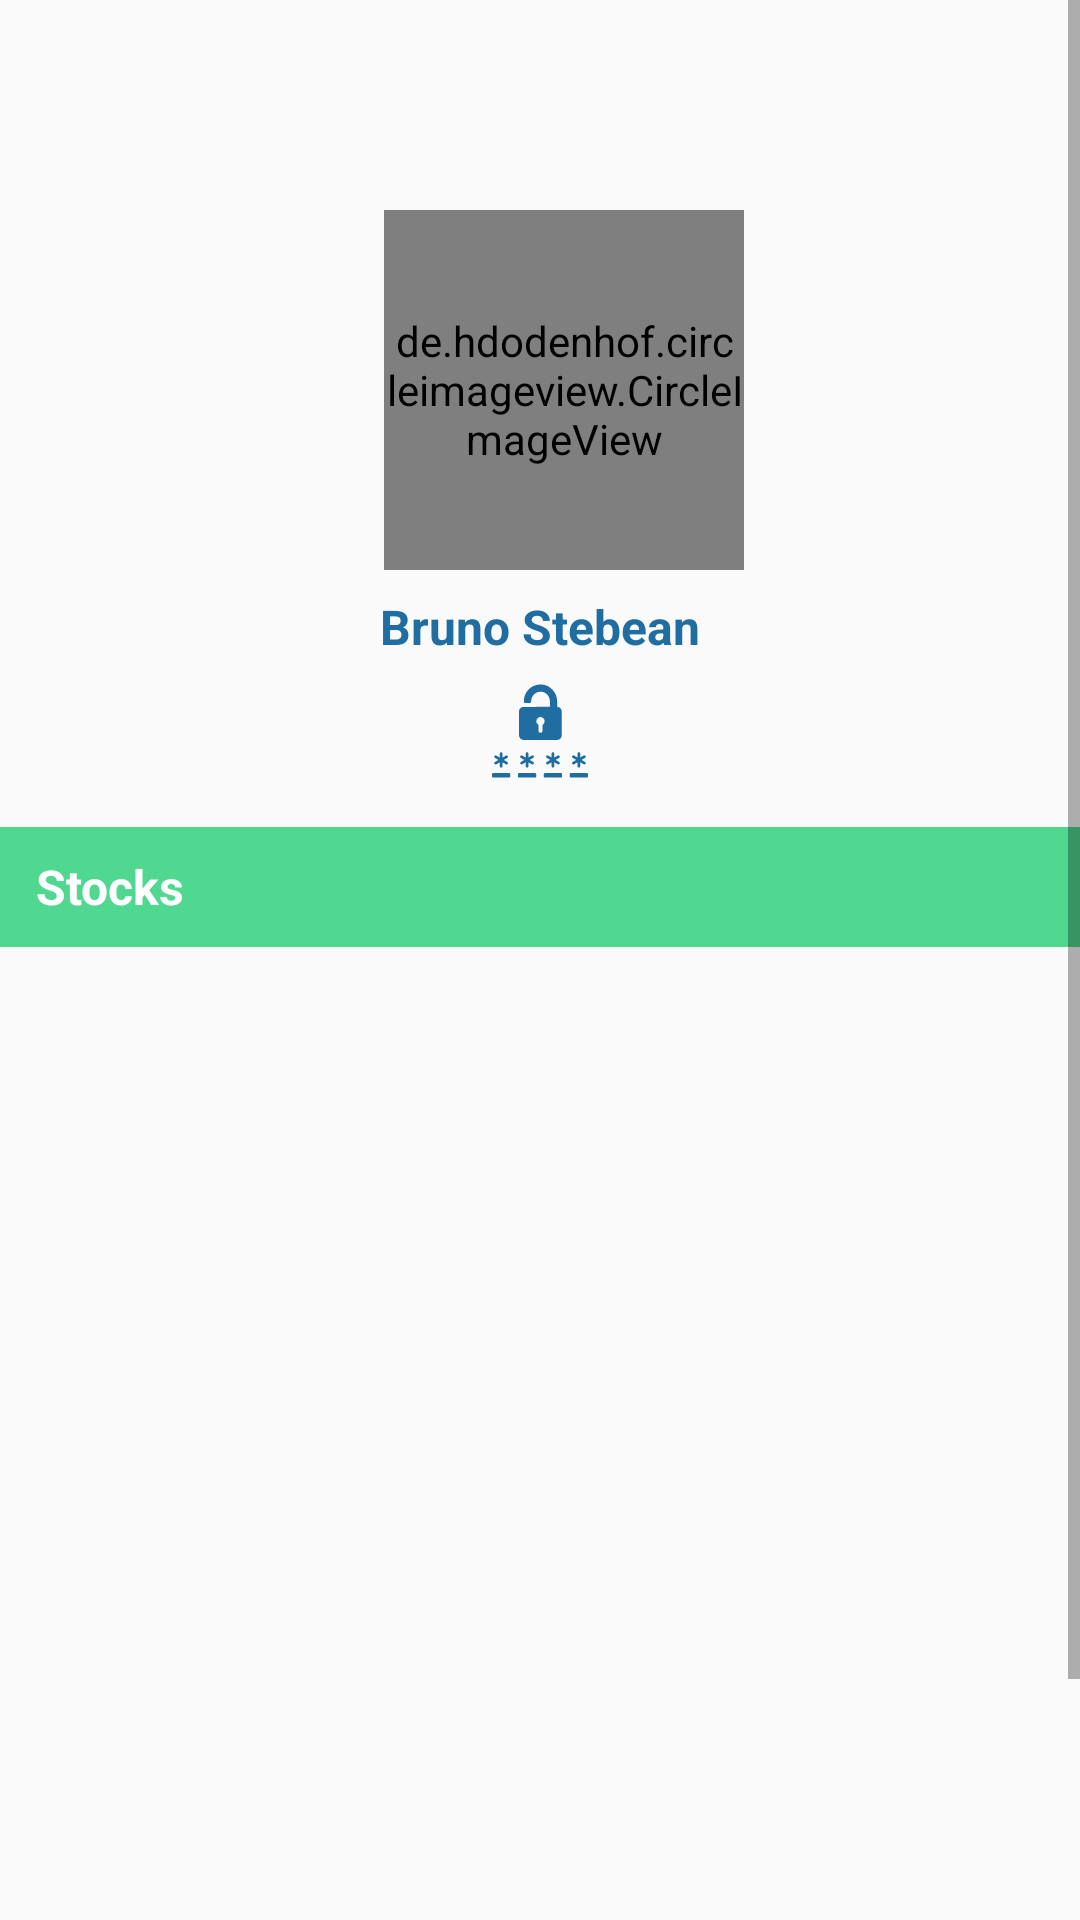

Icon bounding boxes for this 1080x1920 phone screenshot, format (x1, y1, x2, y2):
password change: (492, 684, 588, 778)
